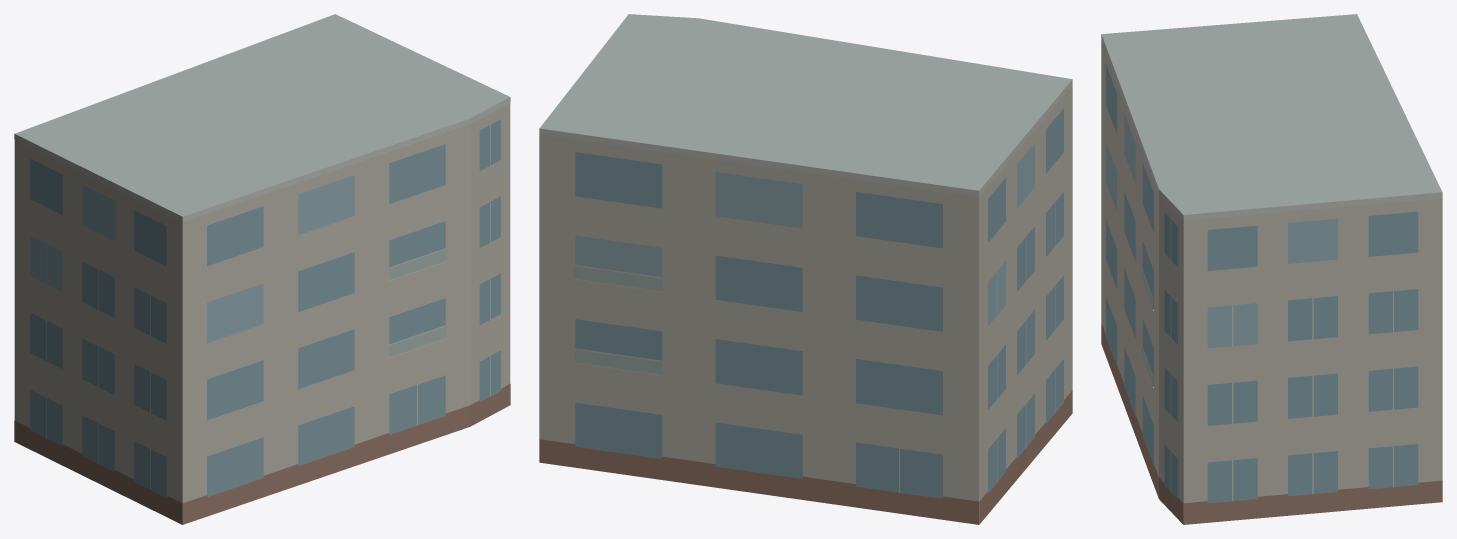
Rendered from survey-upis-33007358.glb.
3 views of the same model, side by side, from view 1: azimuth 30°, elevation 25°; view 2: azimuth 150°, elevation 25°; view 3: azimuth 270°, elevation 25° (orthographic). The views are drawn at different scales.
Parts seen in each view (by area): view 1: survey-upis-33007358.tmp; view 2: survey-upis-33007358.tmp; view 3: survey-upis-33007358.tmp.
Boxes of the visible parts, <box> form: survey-upis-33007358.tmp: <box>14,14,510,524</box>; survey-upis-33007358.tmp: <box>539,14,1072,524</box>; survey-upis-33007358.tmp: <box>1101,14,1442,524</box>.
Size of the model in its own units: 18.3 by 13.15 by 13.13.
